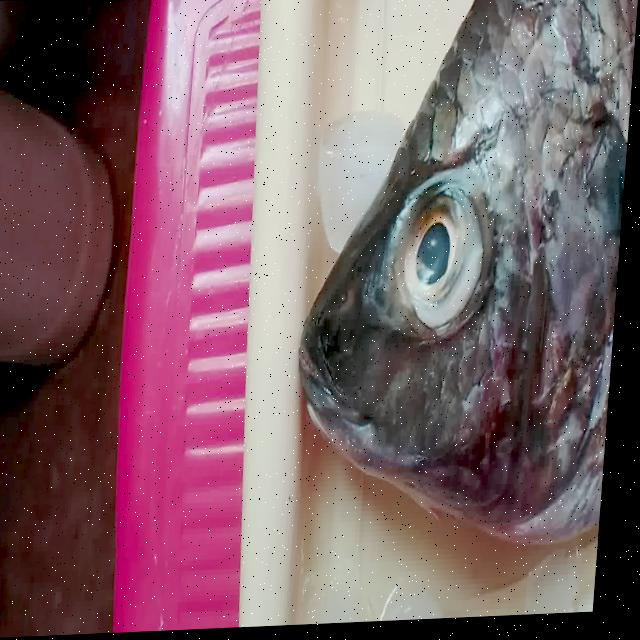Fresh: (396, 100, 512, 343)
